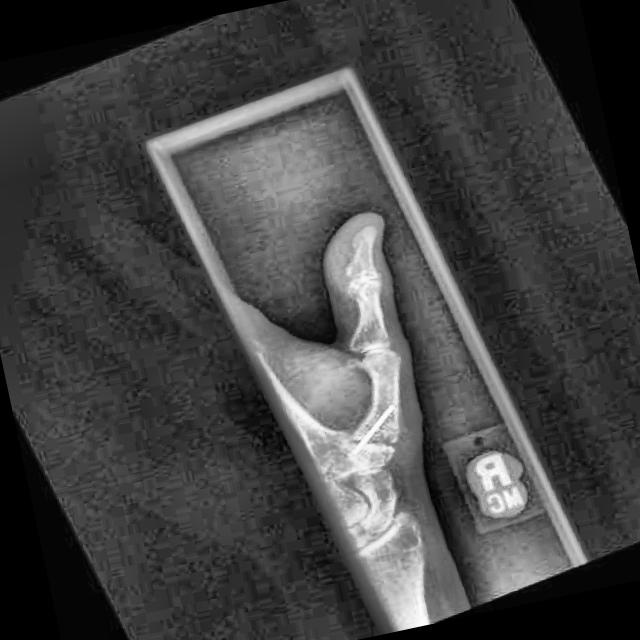fingers positive: (332, 256, 391, 310)
